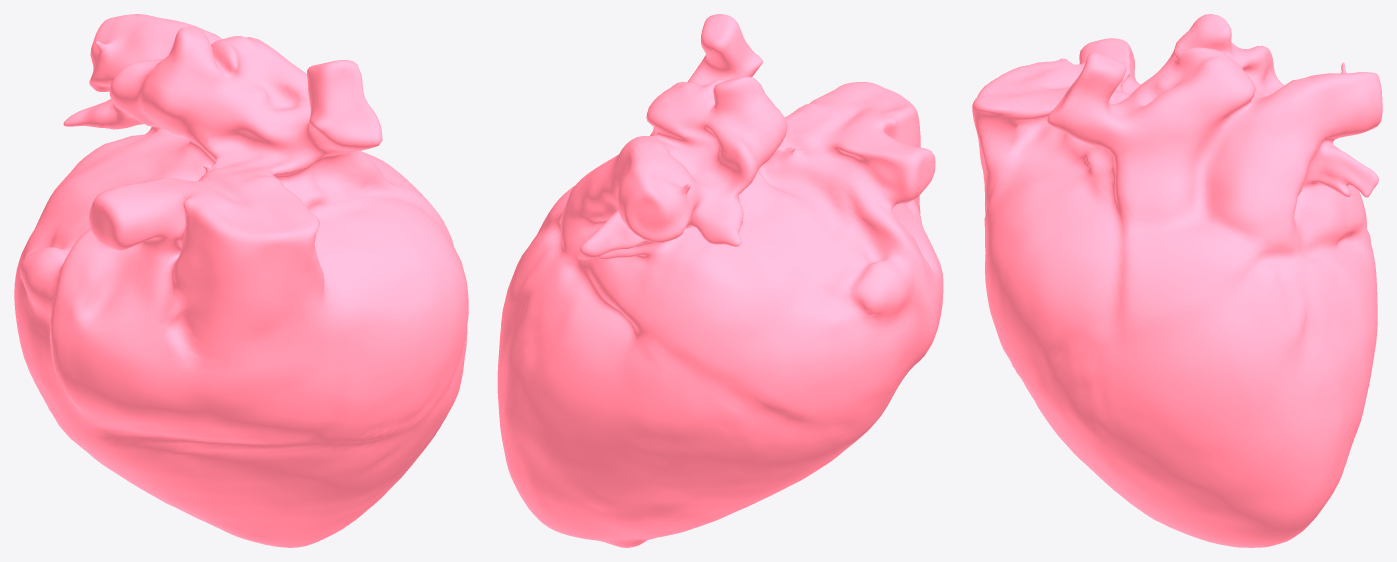
File: heart-organ-responding-3.glb
The picture shows the model from 3 angles, left to right: view 1: azimuth 30°, elevation 25°; view 2: azimuth 150°, elevation 25°; view 3: azimuth 270°, elevation 25°; orthographic projection. The views are drawn at different scales.
Visible parts, largest first — view 1: mesh_base_material_0; view 2: mesh_base_material_0; view 3: mesh_base_material_0.
Boxes of the visible parts, left/top/right/bottom form: mesh_base_material_0: left=14, top=14, right=468, bottom=547; mesh_base_material_0: left=497, top=14, right=943, bottom=547; mesh_base_material_0: left=972, top=14, right=1382, bottom=547.
Bounding box in the file's own units: 1.63 × 2 × 1.56.
